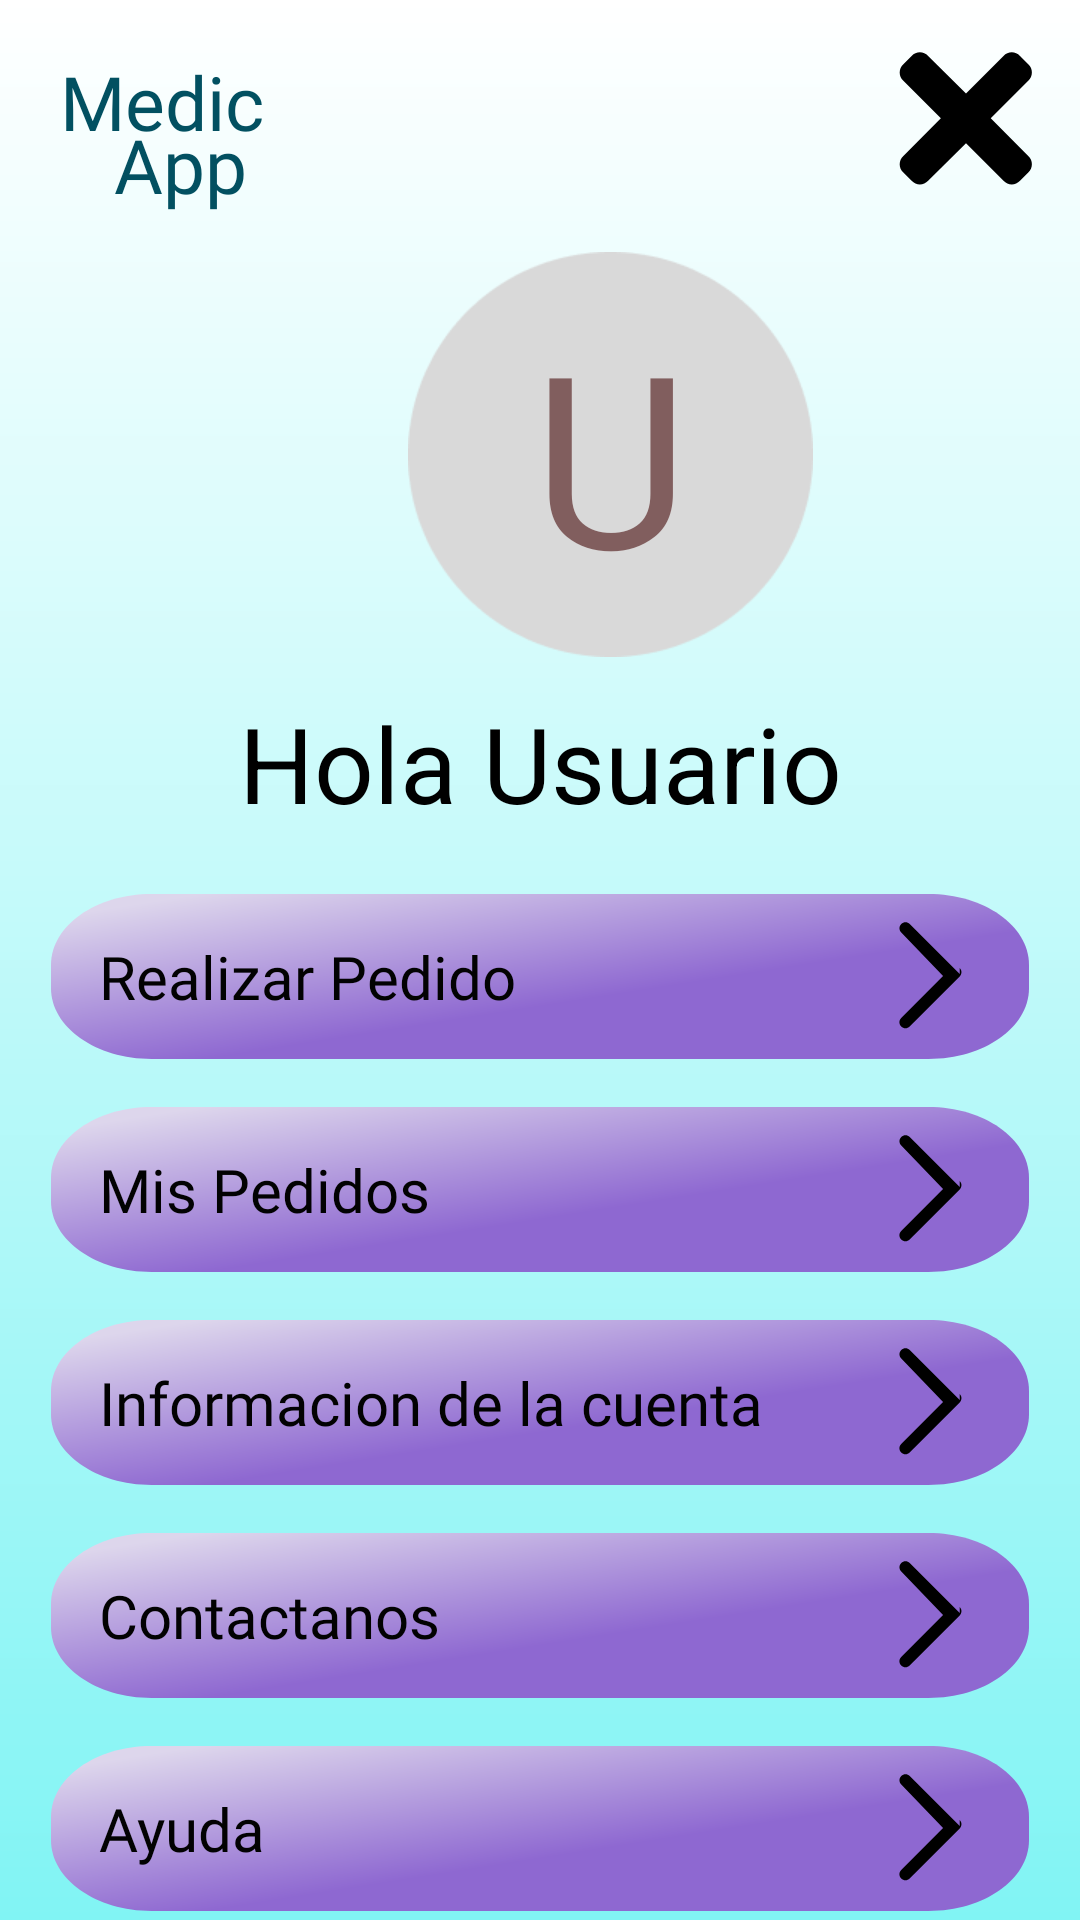

Locate icon controls on the screen. Image size 1080*1920, boxes as [x1, y1, x2, y2].
Cancel button: [899, 52, 1032, 185]
Ir: [899, 922, 962, 1029], [899, 1135, 962, 1242], [899, 1348, 962, 1455], [899, 1561, 962, 1668], [899, 1774, 962, 1881]
